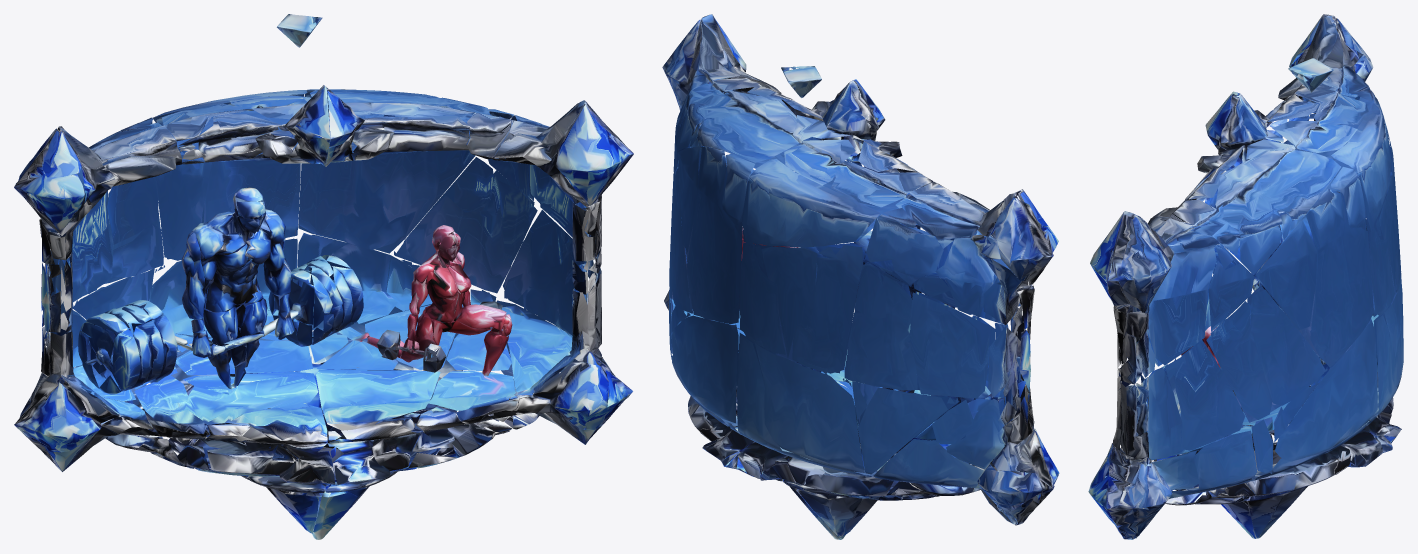
Rendered from MAH_GYM_PROJECTOR_BEACON_L0.glb.
3 renders of one model, left to right at view 1: azimuth 30°, elevation 25°; view 2: azimuth 150°, elevation 25°; view 3: azimuth 270°, elevation 25°, orthographic. The views are drawn at different scales.
Visible parts, largest first — view 1: MAH_GYM_PROJECTOR_BEACON_L0; view 2: MAH_GYM_PROJECTOR_BEACON_L0; view 3: MAH_GYM_PROJECTOR_BEACON_L0.
Part boxes in pixels (box(x1,y1,x2,y2)): MAH_GYM_PROJECTOR_BEACON_L0: box(14, 14, 633, 539); MAH_GYM_PROJECTOR_BEACON_L0: box(662, 14, 1059, 539); MAH_GYM_PROJECTOR_BEACON_L0: box(1088, 14, 1403, 539).
Size of the model in its own units: 0.9801 by 0.9236 by 0.5567.
Materials: 1 (1 with a texture image).
